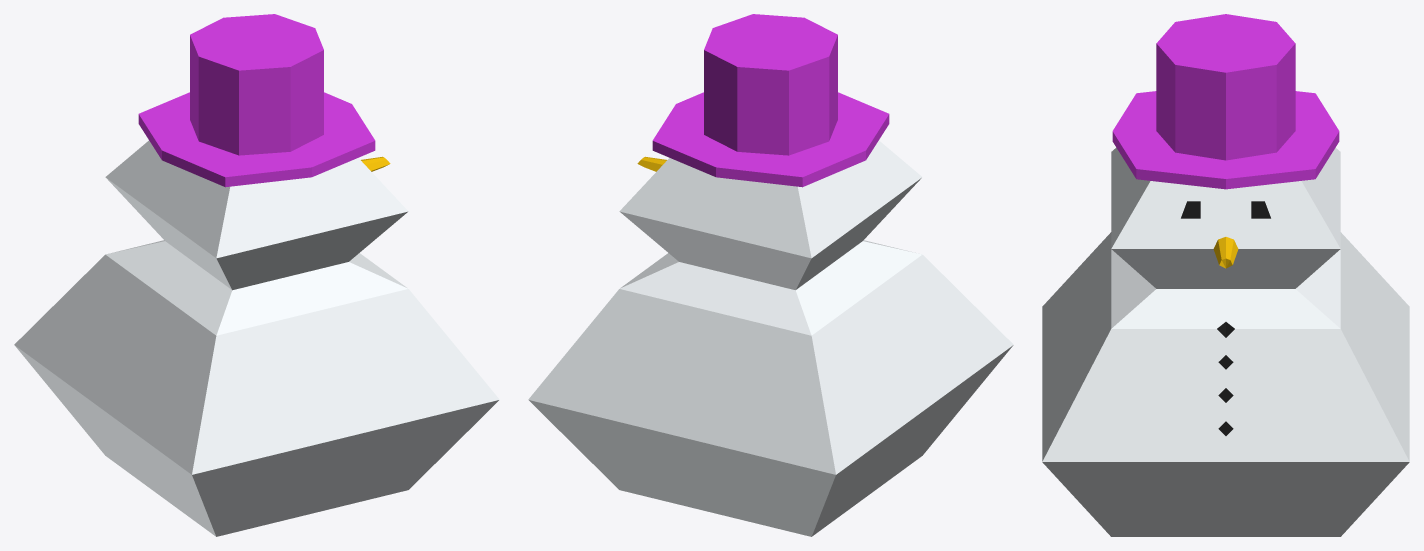
File: CraneGame_prize_1.glb
The picture shows the model from 3 angles, left to right: view 1: azimuth 30°, elevation 25°; view 2: azimuth 150°, elevation 25°; view 3: azimuth 270°, elevation 25°; orthographic projection. The views are drawn at different scales.
Parts seen in each view (by area): view 1: prize_1; view 2: prize_1; view 3: prize_1.
Boxes of the visible parts, bbox=[...] form: prize_1: bbox=[14, 14, 499, 536]; prize_1: bbox=[528, 14, 1013, 536]; prize_1: bbox=[1042, 14, 1409, 536].
Size of the model in its own units: 0.6034 by 0.8062 by 0.6034.
Materials: 1 (1 with a texture image).
